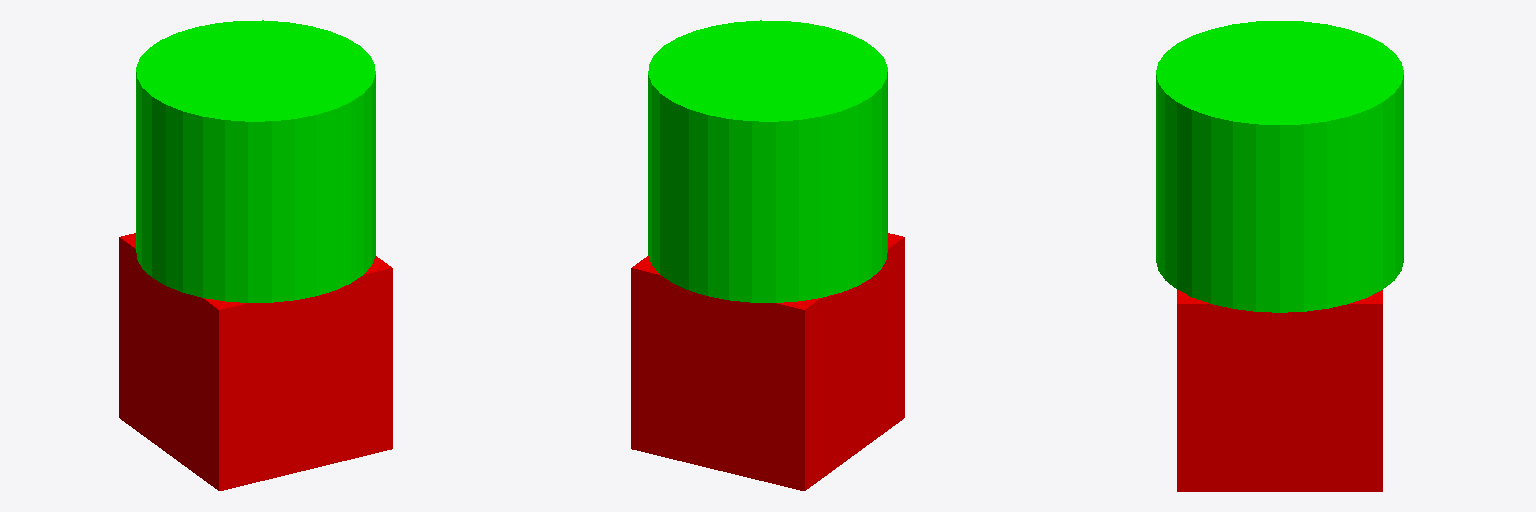
URDF robot description (model_urdf):
<?xml version="1.0"?>
<robot name="model_urdf">
  <link name="base_link">
    <inertial>
      <mass value="1"/>
      <origin xyz="0 0 0" rpy="0 -0 0"/>
      <inertia ixx="0.01" ixy="0" ixz="0" iyy="0.01" iyz="0" izz="0.01"/>
    </inertial>
   <visual>
     <origin xyz="0 0 0.5" rpy="0 0 0" />
     <geometry>
       <box size="1 1 1" />
     </geometry>
     <material name="Red">
       <color rgba="1.0 0.0 0.0 1.0"/>
     </material>
   </visual>
   <collision>
     <origin xyz="0 0 0.5" rpy="0 0 0"/>
     <geometry>
       <box size="1 1 1" />
     </geometry>
   </collision>
  </link>
  <joint name="joint_a1" type="continuous">
    <origin xyz="0 0 1.0" rpy="0 -0 0"/>
    <axis xyz="0 0 -1"/>
    <parent link="base_link"/>
    <child link="link_1"/>
  </joint>
  <link name="link_1">
    <inertial>
      <mass value="1"/>
      <origin xyz="0 0 0" rpy="0 -0 0"/>
      <inertia ixx="0.01" ixy="0" ixz="0" iyy="0.01" iyz="0" izz="0.01"/>
    </inertial>
   <visual>
     <origin xyz="0 0 0.5" rpy="0 0 0" />
     <geometry>
       <cylinder radius="0.6" length="1.0"/>
     </geometry>
     <material name="Green">
       <color rgba="0.0 1.0 0.0 1.0"/>
     </material>
   </visual>
   <collision>
     <origin xyz="0 0 0.5" rpy="0 0 0"/>
     <geometry>
       <cylinder radius="0.6" length="1.0"/>
     </geometry>
   </collision>
  </link>
</robot>

--- What the picture shows (computed from the rendered views, not written in the file) ---
The picture shows the robot from 3 angles, left to right: view 1: azimuth 30°, elevation 25°; view 2: azimuth 150°, elevation 25°; view 3: azimuth 270°, elevation 25°; orthographic projection.
Robot: model_urdf — 2 links, 1 joints (1 continuous); root link base_link; default pose: all joints at 0.
Links seen in each view (by area): view 1: link_1, base_link; view 2: link_1, base_link; view 3: link_1, base_link.
Boxes of the visible links, x1,y1,x2,y2 form: link_1: [136, 20, 375, 302]; base_link: [119, 233, 392, 490]; link_1: [648, 20, 887, 302]; base_link: [631, 233, 904, 490]; link_1: [1156, 21, 1403, 312]; base_link: [1177, 290, 1382, 491].
Bounding box of the posed robot: 1.2 × 1.2 × 2 m (x, y, z).
Geometry: primitives only (box / cylinder / sphere), no mesh files.